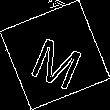M_NE: (24, 23, 86, 87)
